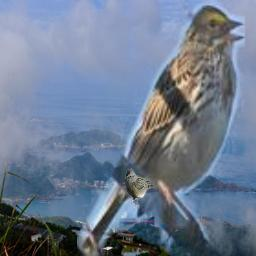Sparrow: (77, 0, 245, 256), (125, 168, 164, 207)
